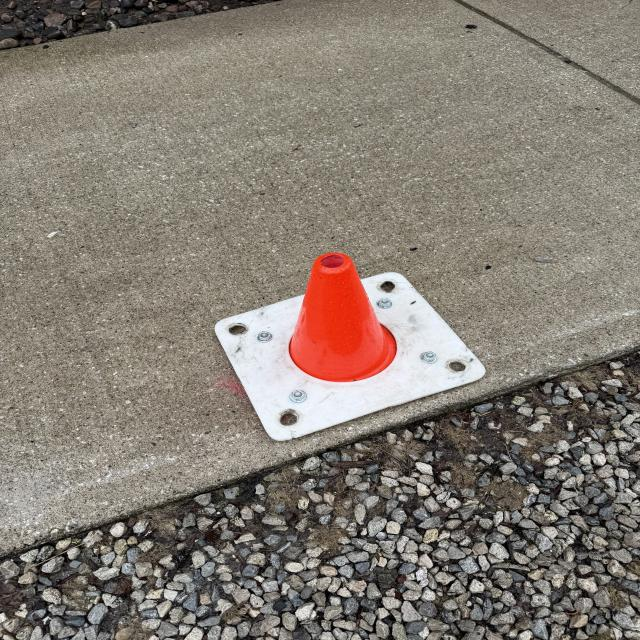Traffic Cone: (212, 252, 488, 442)
